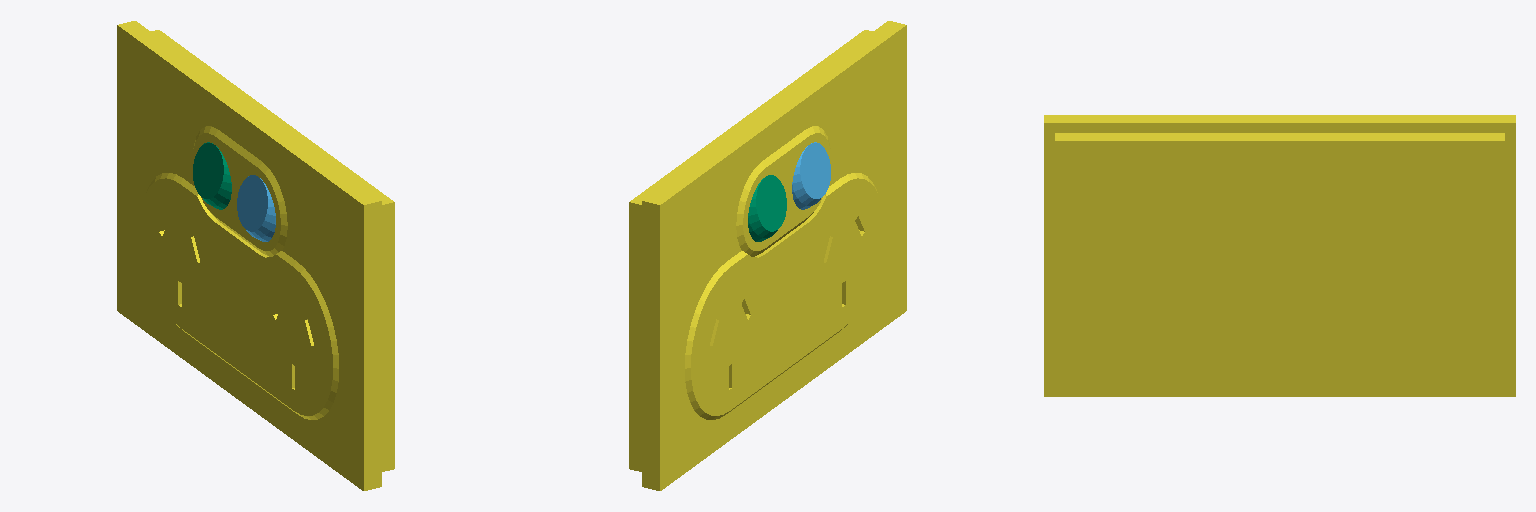
The robot description file, URDF, robot "partnet_8f7b77c0-5c54-4638-a879-a9b5e3ccdd56":
<?xml version="1.0" ?>
<robot name="partnet_8f7b77c0-5c54-4638-a879-a9b5e3ccdd56">
	<link name="base"/>
	<link name="link_0">
		<visual name="switch-1">
			<origin xyz="0 -0.24648599999999998 -0.076858"/>
			<geometry>
				<mesh filename="textured_objs/original-7.obj"/>
			</geometry>
		</visual>
		<collision>
			<origin xyz="0 -0.24648599999999998 -0.076858"/>
			<geometry>
				<mesh filename="textured_objs/original-7.obj"/>
			</geometry>
		</collision>
	</link>
	<joint name="joint_0" type="revolute">
		<origin xyz="0 0.24648599999999998 0.076858"/>
		<axis xyz="1 0 0"/>
		<child link="link_0"/>
		<parent link="link_2"/>
		<limit lower="0.0" upper="0.5235987755982988"/>
	</joint>
	<link name="link_1">
		<visual name="switch-2">
			<origin xyz="0 -0.24648599999999998 -0.076858"/>
			<geometry>
				<mesh filename="textured_objs/original-4.obj"/>
			</geometry>
		</visual>
		<collision>
			<origin xyz="0 -0.24648599999999998 -0.076858"/>
			<geometry>
				<mesh filename="textured_objs/original-4.obj"/>
			</geometry>
		</collision>
	</link>
	<joint name="joint_1" type="revolute">
		<origin xyz="0 0.24648599999999998 0.076858"/>
		<axis xyz="1 0 0"/>
		<child link="link_1"/>
		<parent link="link_2"/>
		<limit lower="0.0" upper="0.5235987755982988"/>
	</joint>
	<link name="link_2">
		<visual name="base_body-3">
			<origin xyz="0 0 0"/>
			<geometry>
				<mesh filename="textured_objs/original-3.obj"/>
			</geometry>
		</visual>
		<visual name="base_body-3">
			<origin xyz="0 0 0"/>
			<geometry>
				<mesh filename="textured_objs/original-2.obj"/>
			</geometry>
		</visual>
		<visual name="base_body-3">
			<origin xyz="0 0 0"/>
			<geometry>
				<mesh filename="textured_objs/original-8.obj"/>
			</geometry>
		</visual>
		<visual name="base_body-3">
			<origin xyz="0 0 0"/>
			<geometry>
				<mesh filename="textured_objs/original-13.obj"/>
			</geometry>
		</visual>
		<visual name="base_body-3">
			<origin xyz="0 0 0"/>
			<geometry>
				<mesh filename="textured_objs/original-9.obj"/>
			</geometry>
		</visual>
		<visual name="base_body-3">
			<origin xyz="0 0 0"/>
			<geometry>
				<mesh filename="textured_objs/original-5.obj"/>
			</geometry>
		</visual>
		<visual name="base_body-3">
			<origin xyz="0 0 0"/>
			<geometry>
				<mesh filename="textured_objs/original-6.obj"/>
			</geometry>
		</visual>
		<visual name="base_body-3">
			<origin xyz="0 0 0"/>
			<geometry>
				<mesh filename="textured_objs/original-11.obj"/>
			</geometry>
		</visual>
		<visual name="base_body-3">
			<origin xyz="0 0 0"/>
			<geometry>
				<mesh filename="textured_objs/original-12.obj"/>
			</geometry>
		</visual>
		<visual name="base_body-3">
			<origin xyz="0 0 0"/>
			<geometry>
				<mesh filename="textured_objs/original-1.obj"/>
			</geometry>
		</visual>
		<visual name="base_body-3">
			<origin xyz="0 0 0"/>
			<geometry>
				<mesh filename="textured_objs/original-10.obj"/>
			</geometry>
		</visual>
		<visual name="base_body-3">
			<origin xyz="0 0 0"/>
			<geometry>
				<mesh filename="textured_objs/original-14.obj"/>
			</geometry>
		</visual>
		<collision>
			<origin xyz="0 0 0"/>
			<geometry>
				<mesh filename="textured_objs/original-3.obj"/>
			</geometry>
		</collision>
		<collision>
			<origin xyz="0 0 0"/>
			<geometry>
				<mesh filename="textured_objs/original-2.obj"/>
			</geometry>
		</collision>
		<collision>
			<origin xyz="0 0 0"/>
			<geometry>
				<mesh filename="textured_objs/original-8.obj"/>
			</geometry>
		</collision>
		<collision>
			<origin xyz="0 0 0"/>
			<geometry>
				<mesh filename="textured_objs/original-13.obj"/>
			</geometry>
		</collision>
		<collision>
			<origin xyz="0 0 0"/>
			<geometry>
				<mesh filename="textured_objs/original-9.obj"/>
			</geometry>
		</collision>
		<collision>
			<origin xyz="0 0 0"/>
			<geometry>
				<mesh filename="textured_objs/original-5.obj"/>
			</geometry>
		</collision>
		<collision>
			<origin xyz="0 0 0"/>
			<geometry>
				<mesh filename="textured_objs/original-6.obj"/>
			</geometry>
		</collision>
		<collision>
			<origin xyz="0 0 0"/>
			<geometry>
				<mesh filename="textured_objs/original-11.obj"/>
			</geometry>
		</collision>
		<collision>
			<origin xyz="0 0 0"/>
			<geometry>
				<mesh filename="textured_objs/original-12.obj"/>
			</geometry>
		</collision>
		<collision>
			<origin xyz="0 0 0"/>
			<geometry>
				<mesh filename="textured_objs/original-1.obj"/>
			</geometry>
		</collision>
		<collision>
			<origin xyz="0 0 0"/>
			<geometry>
				<mesh filename="textured_objs/original-10.obj"/>
			</geometry>
		</collision>
		<collision>
			<origin xyz="0 0 0"/>
			<geometry>
				<mesh filename="textured_objs/original-14.obj"/>
			</geometry>
		</collision>
	</link>
	<joint name="joint_2" type="fixed">
		<origin rpy="1.570796326794897 0 -1.570796326794897" xyz="0 0 0"/>
		<child link="link_2"/>
		<parent link="base"/>
	</joint>
</robot>

--- What the picture shows (computed from the rendered views, not written in the file) ---
Views: 3 orthographic renders of the robot side by side, from view 1: azimuth 30°, elevation 25°; view 2: azimuth 150°, elevation 25°; view 3: azimuth 270°, elevation 25°.
Robot: partnet_8f7b77c0-5c54-4638-a879-a9b5e3ccdd56 — 4 links, 3 joints (2 revolute, 1 fixed); root link base; default pose: all joints at 0.
Visible links, largest first — view 1: link_2, link_1, link_0; view 2: link_2, link_0, link_1; view 3: link_2.
Boxes of the visible links, bbox=[...] form: link_2: bbox=[117, 21, 394, 490]; link_1: bbox=[193, 142, 231, 209]; link_0: bbox=[237, 175, 275, 241]; link_2: bbox=[629, 21, 906, 490]; link_0: bbox=[792, 142, 830, 209]; link_1: bbox=[748, 175, 786, 241]; link_2: bbox=[1044, 115, 1515, 396].
Size in the robot's own frame: 0.2082 by 1.68 by 1.08 metres.
14 mesh visuals loaded from 14 distinct referenced files (14 OBJ).